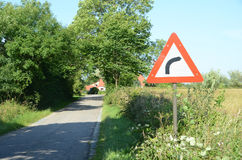Bend_to_right: (143, 31, 205, 86)
